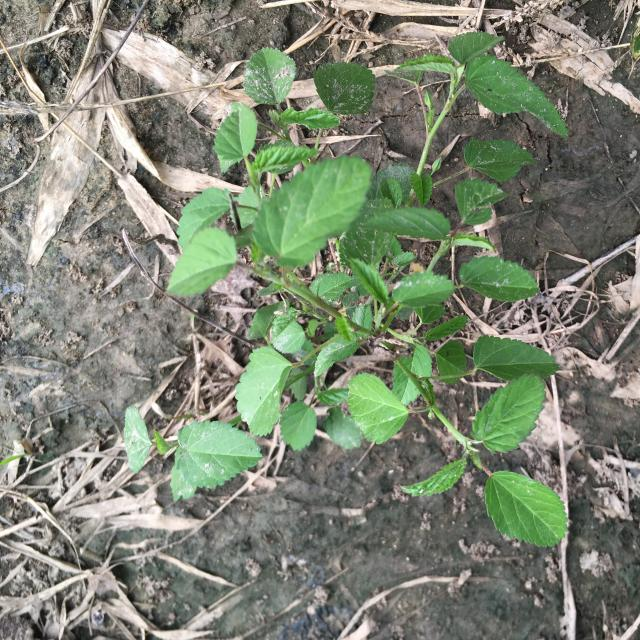PricklySida: (123, 31, 569, 549)
